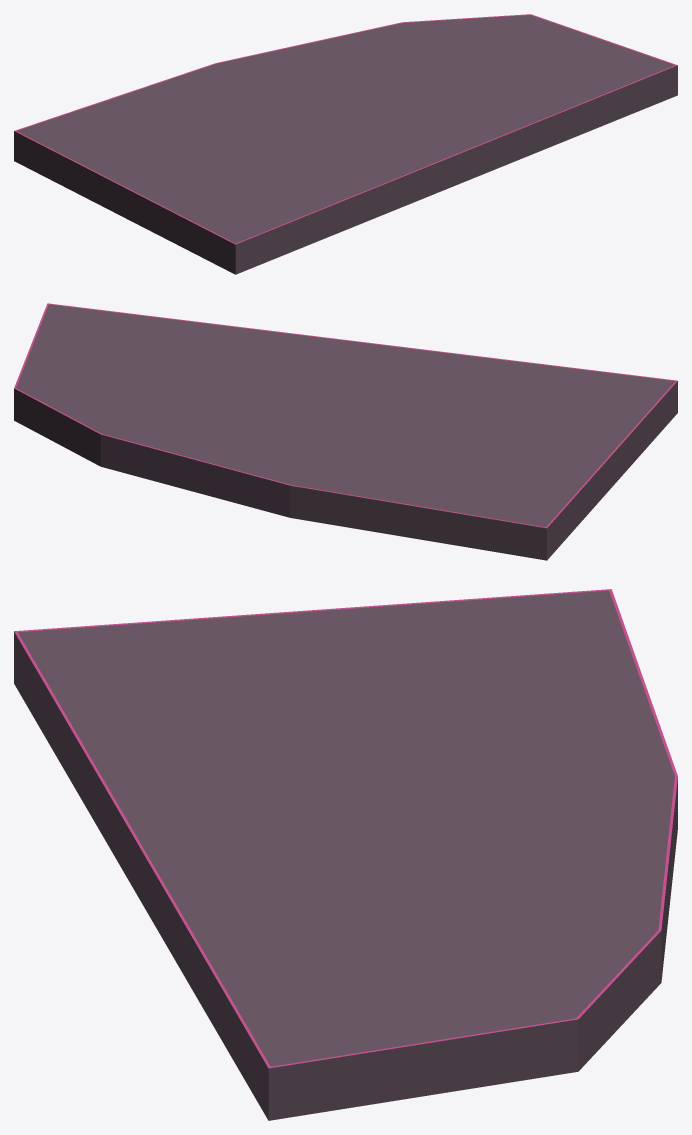
Rendered from way-1044328353.glb.
3 views of the same model, one above another, from view 1: azimuth 30°, elevation 25°; view 2: azimuth 150°, elevation 25°; view 3: azimuth 270°, elevation 25° (orthographic). The views are drawn at different scales.
Parts seen in each view (by area): view 1: way-1044328353; view 2: way-1044328353; view 3: way-1044328353.
Part boxes in pixels (left/top/right/bottom): way-1044328353: left=14, top=14, right=677, bottom=274; way-1044328353: left=14, top=303, right=677, bottom=560; way-1044328353: left=14, top=589, right=677, bottom=1120.
Size of the model in its own units: 58.89 by 3 by 34.46.
